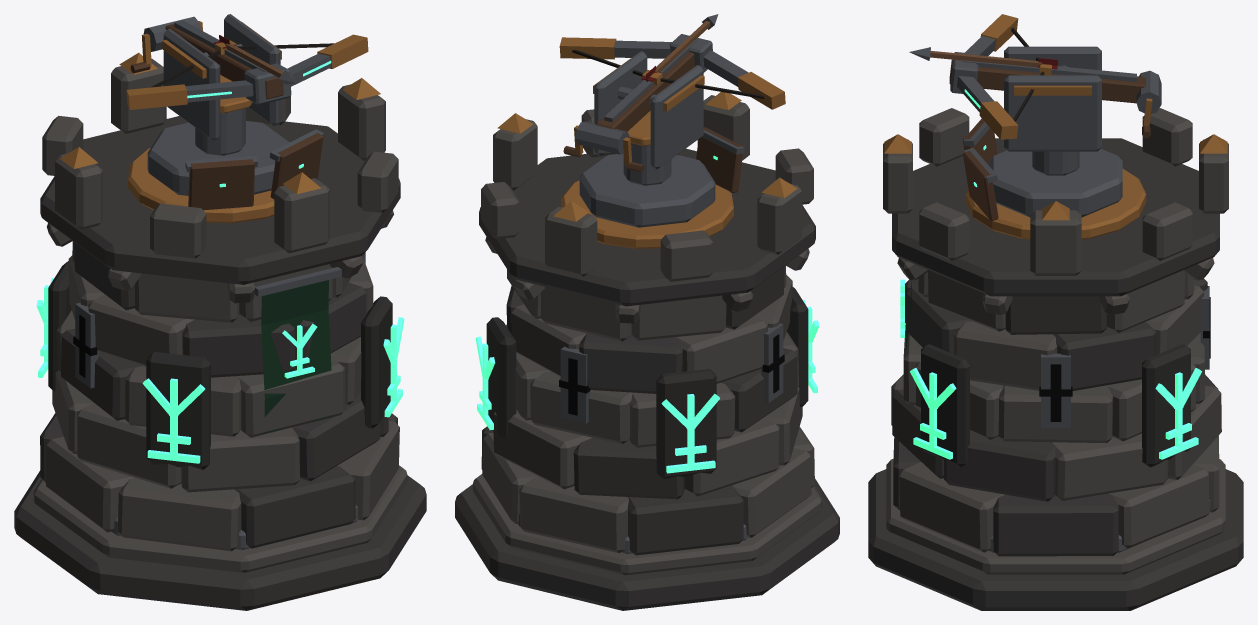
Rendered from crossbow_tower_lvl3.glb.
3 views of the same model, side by side, from view 1: azimuth 30°, elevation 25°; view 2: azimuth 150°, elevation 25°; view 3: azimuth 270°, elevation 25° (orthographic). The views are drawn at different scales.
Parts seen in each view (by area): view 1: Platform, Plinth, Plinth_Step, Block_0_5, Block_0_6, Block_1_5, RuneStone_3, Banner, Block_2_6, Block_3_5, Turret_Base, Block_1_4 (+41 smaller); view 2: Platform, Plinth, Plinth_Step, Turret_Base, Block_0_3, Block_0_2, Block_1_2, RuneStone_2, Block_3_2, Block_2_2, Block_1_1, Block_1_3 (+40 smaller); view 3: Platform, Plinth, Plinth_Step, Block_0_0, Turret_Base, Cheek_R, Block_0_7, Block_1_7, Block_1_0, Block_2_0, Block_0_1, Block_3_7 (+42 smaller).
Boxes of the visible parts, x1,y1,x2,y2 form: Platform: [40, 116, 400, 284]; Plinth: [14, 470, 426, 610]; Plinth_Step: [33, 465, 407, 572]; Block_0_5: [118, 477, 241, 551]; Block_0_6: [235, 466, 355, 548]; Block_1_5: [181, 427, 299, 492]; RuneStone_3: [146, 351, 210, 469]; Banner: [261, 280, 331, 433]; Block_2_6: [236, 357, 345, 437]; Block_3_5: [182, 315, 294, 377]; Turret_Base: [147, 121, 289, 195]; Block_1_4: [77, 402, 180, 488]; Platform: [479, 148, 815, 306]; Plinth: [455, 478, 839, 610]; Plinth_Step: [473, 474, 821, 575]; Turret_Base: [579, 154, 715, 227]; Block_0_3: [627, 485, 743, 555]; Block_0_2: [519, 477, 628, 553]; Block_1_2: [573, 437, 684, 499]; RuneStone_2: [656, 369, 716, 479]; Block_3_2: [579, 333, 682, 393]; Block_2_2: [530, 371, 633, 444]; Block_1_1: [494, 409, 591, 489]; Block_1_3: [684, 418, 779, 496]; Platform: [892, 138, 1219, 296]; Plinth: [868, 469, 1243, 610]; Plinth_Step: [886, 458, 1225, 574]; Block_0_0: [993, 493, 1118, 556]; Turret_Base: [989, 149, 1122, 217]; Cheek_R: [1004, 75, 1101, 151]; Block_0_7: [899, 462, 1004, 552]; Block_1_7: [944, 431, 1055, 501]; Block_1_0: [1051, 433, 1168, 500]; Block_2_0: [998, 385, 1112, 443]; Block_0_1: [1108, 464, 1208, 548]; Block_3_7: [953, 321, 1057, 390].
Bounding box in the file's own units: 2.49 × 3.58 × 2.49.
